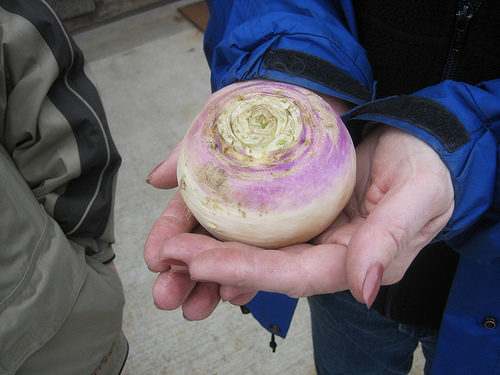turnip: (172, 79, 358, 247)
